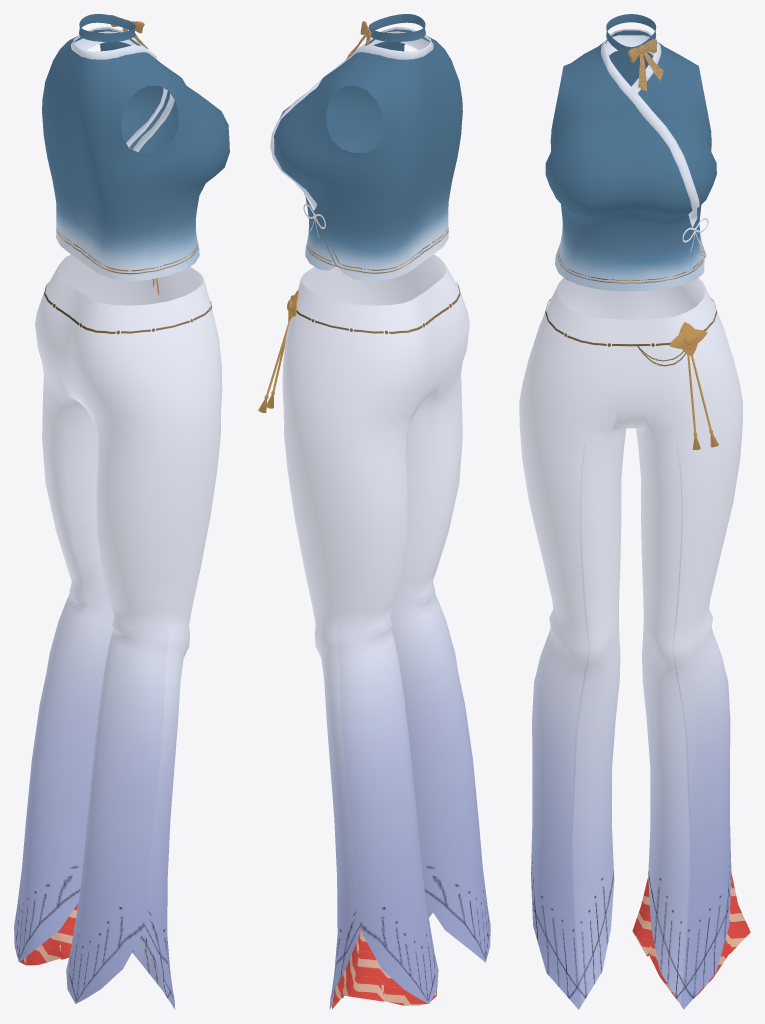
File: thisshiisfinal.glb
The picture shows the model from 3 angles, left to right: view 1: azimuth 30°, elevation 25°; view 2: azimuth 150°, elevation 25°; view 3: azimuth 270°, elevation 25°; orthographic projection.
Visible parts, largest first — view 1: Cube.002, Cube, Cube.003, Circle, Cube.004; view 2: Cube.002, Cube, Cube.003, Circle; view 3: Cube.002, Cube, Cube.003, Cube.001, Circle, Plane.001, Cylinder.
Boxes of the visible parts, box(x1,y1,x2,y2) form: Cube.002: box(14, 254, 222, 1009); Cube: box(42, 26, 229, 281); Cube.003: box(16, 903, 77, 965); Circle: box(79, 14, 135, 41); Cube.004: box(44, 283, 211, 334); Cube.002: box(282, 254, 490, 1009); Cube: box(270, 26, 462, 281); Cube.003: box(332, 929, 436, 1009); Circle: box(369, 14, 425, 41); Cube.002: box(519, 278, 742, 1009); Cube: box(545, 29, 716, 291); Cube.003: box(632, 872, 750, 1001); Cube.001: box(627, 39, 663, 91); Circle: box(606, 14, 656, 54); Plane.001: box(669, 322, 707, 355); Cylinder: box(687, 354, 718, 449).
Size of the model in its own units: 0.6504 by 3.74 by 0.8134.
Materials: 11 (11 with a texture image).
